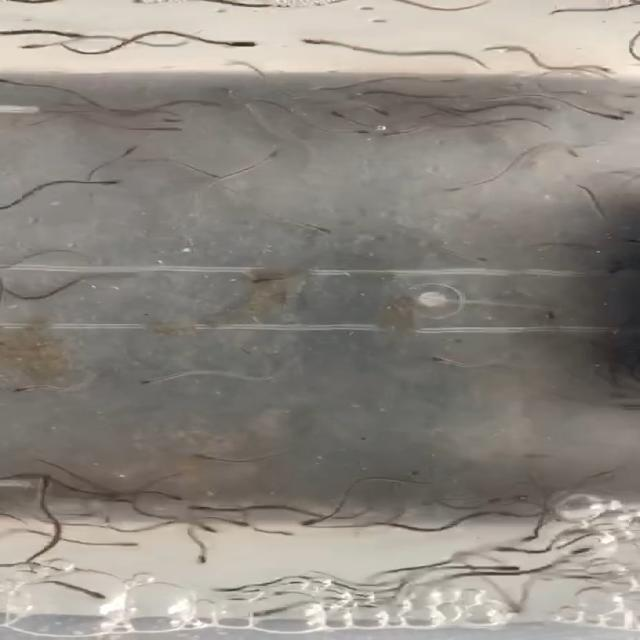active_glass_eel: (206, 34, 266, 50), (201, 580, 261, 596), (290, 30, 340, 48), (241, 606, 292, 621), (514, 522, 552, 542), (557, 141, 592, 161), (588, 61, 626, 79), (298, 511, 337, 528), (375, 128, 430, 140), (518, 101, 561, 116), (328, 108, 363, 126), (583, 108, 628, 122), (364, 104, 408, 118), (72, 584, 110, 600), (338, 123, 378, 138), (298, 222, 338, 237), (182, 499, 219, 515), (191, 166, 224, 183), (425, 356, 460, 372), (217, 514, 252, 530), (143, 114, 188, 126), (149, 120, 187, 134), (188, 97, 228, 110), (137, 376, 180, 388), (491, 546, 534, 558), (183, 451, 222, 464), (81, 179, 123, 191), (437, 182, 479, 194), (489, 560, 526, 573), (188, 547, 212, 567), (145, 490, 184, 502), (110, 145, 140, 160), (0, 72, 27, 88), (193, 518, 220, 534), (13, 41, 44, 54), (33, 474, 55, 492), (249, 276, 279, 288), (468, 254, 493, 268), (13, 384, 41, 395), (110, 540, 143, 548)
